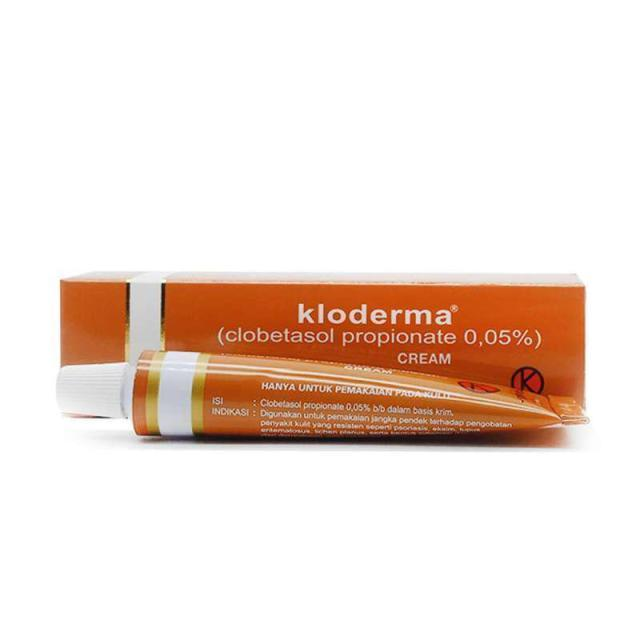drug-name: (296, 299, 462, 328)
